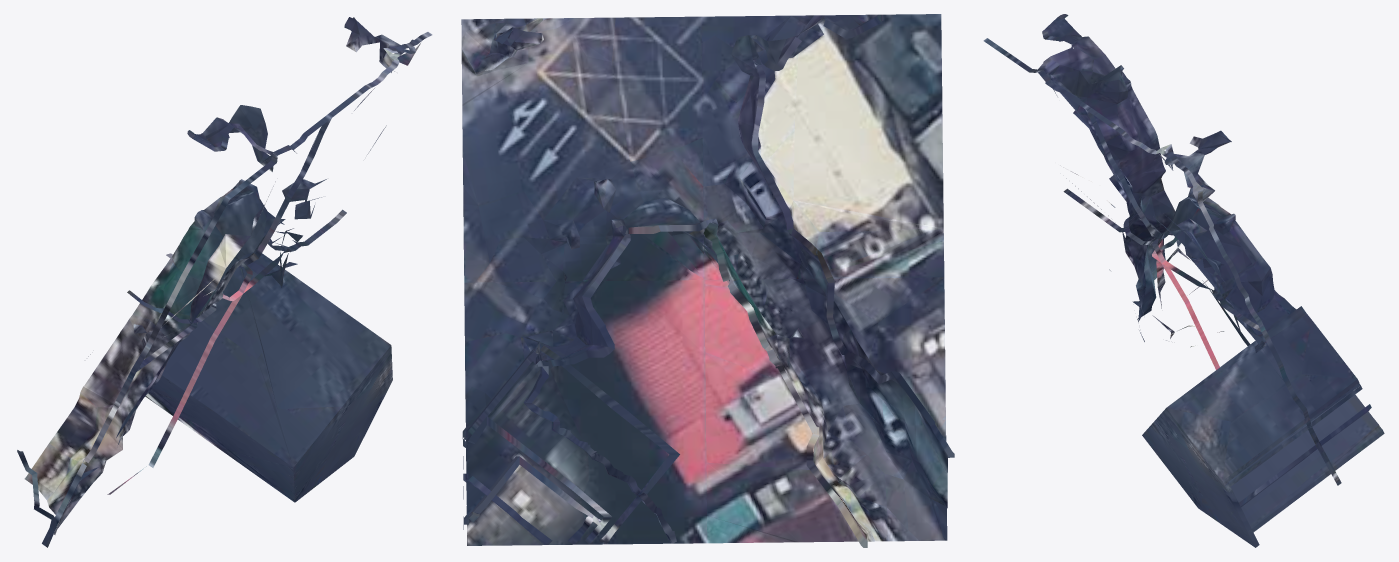
3 views of the same model, side by side, from view 1: azimuth 30°, elevation 25°; view 2: azimuth 150°, elevation 25°; view 3: azimuth 270°, elevation 25° (orthographic). The views are drawn at different scales.
Size of the model in its own units: 39.82 by 41.54 by 36.17.
Materials: 1 (1 with a texture image).
